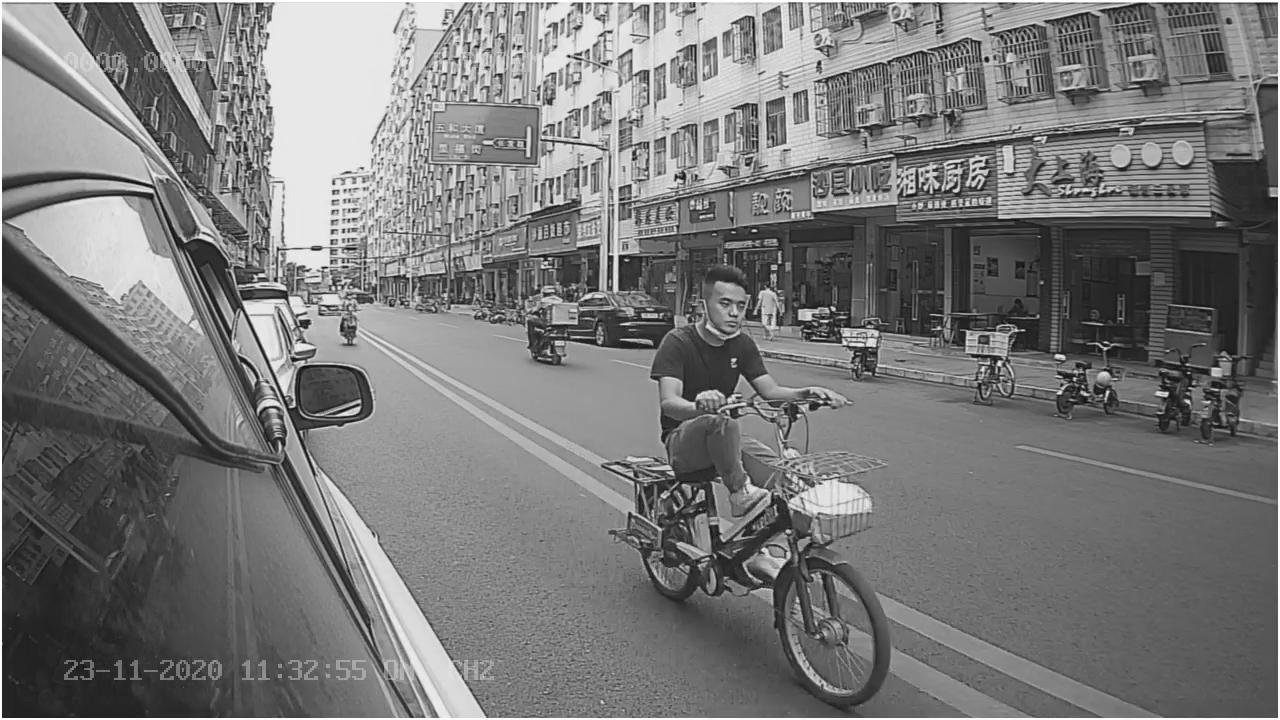person: (660, 254, 802, 415)
